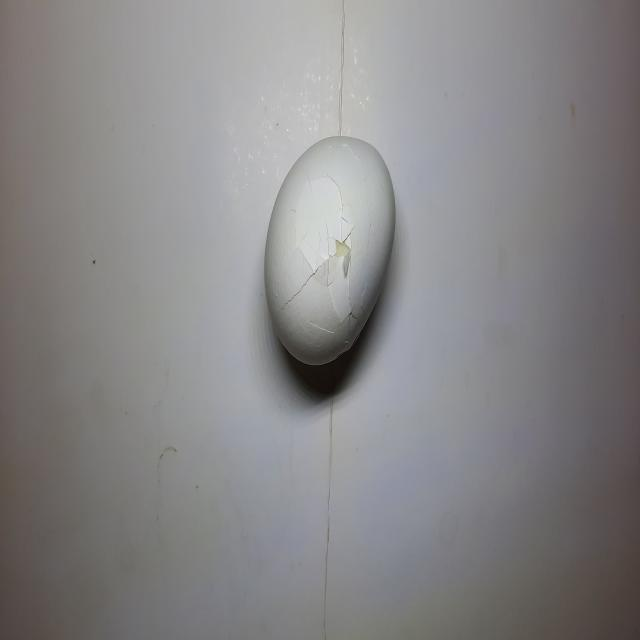egg shell: (262, 132, 398, 372)
